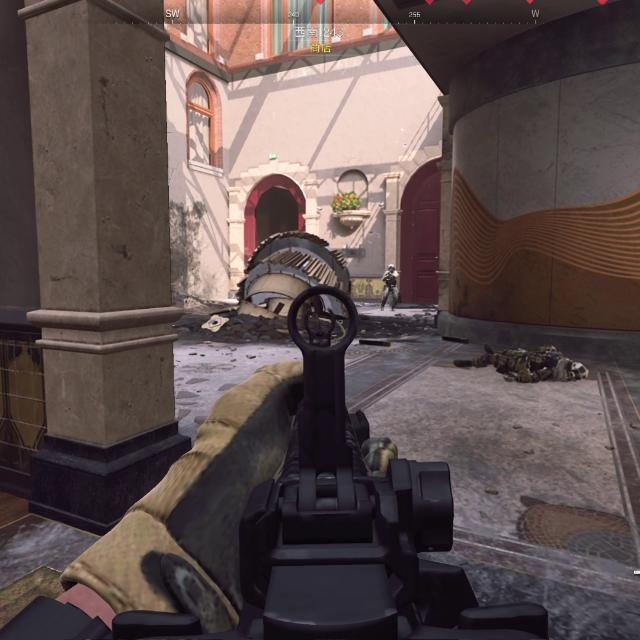MW2_body: (381, 264, 399, 313)
